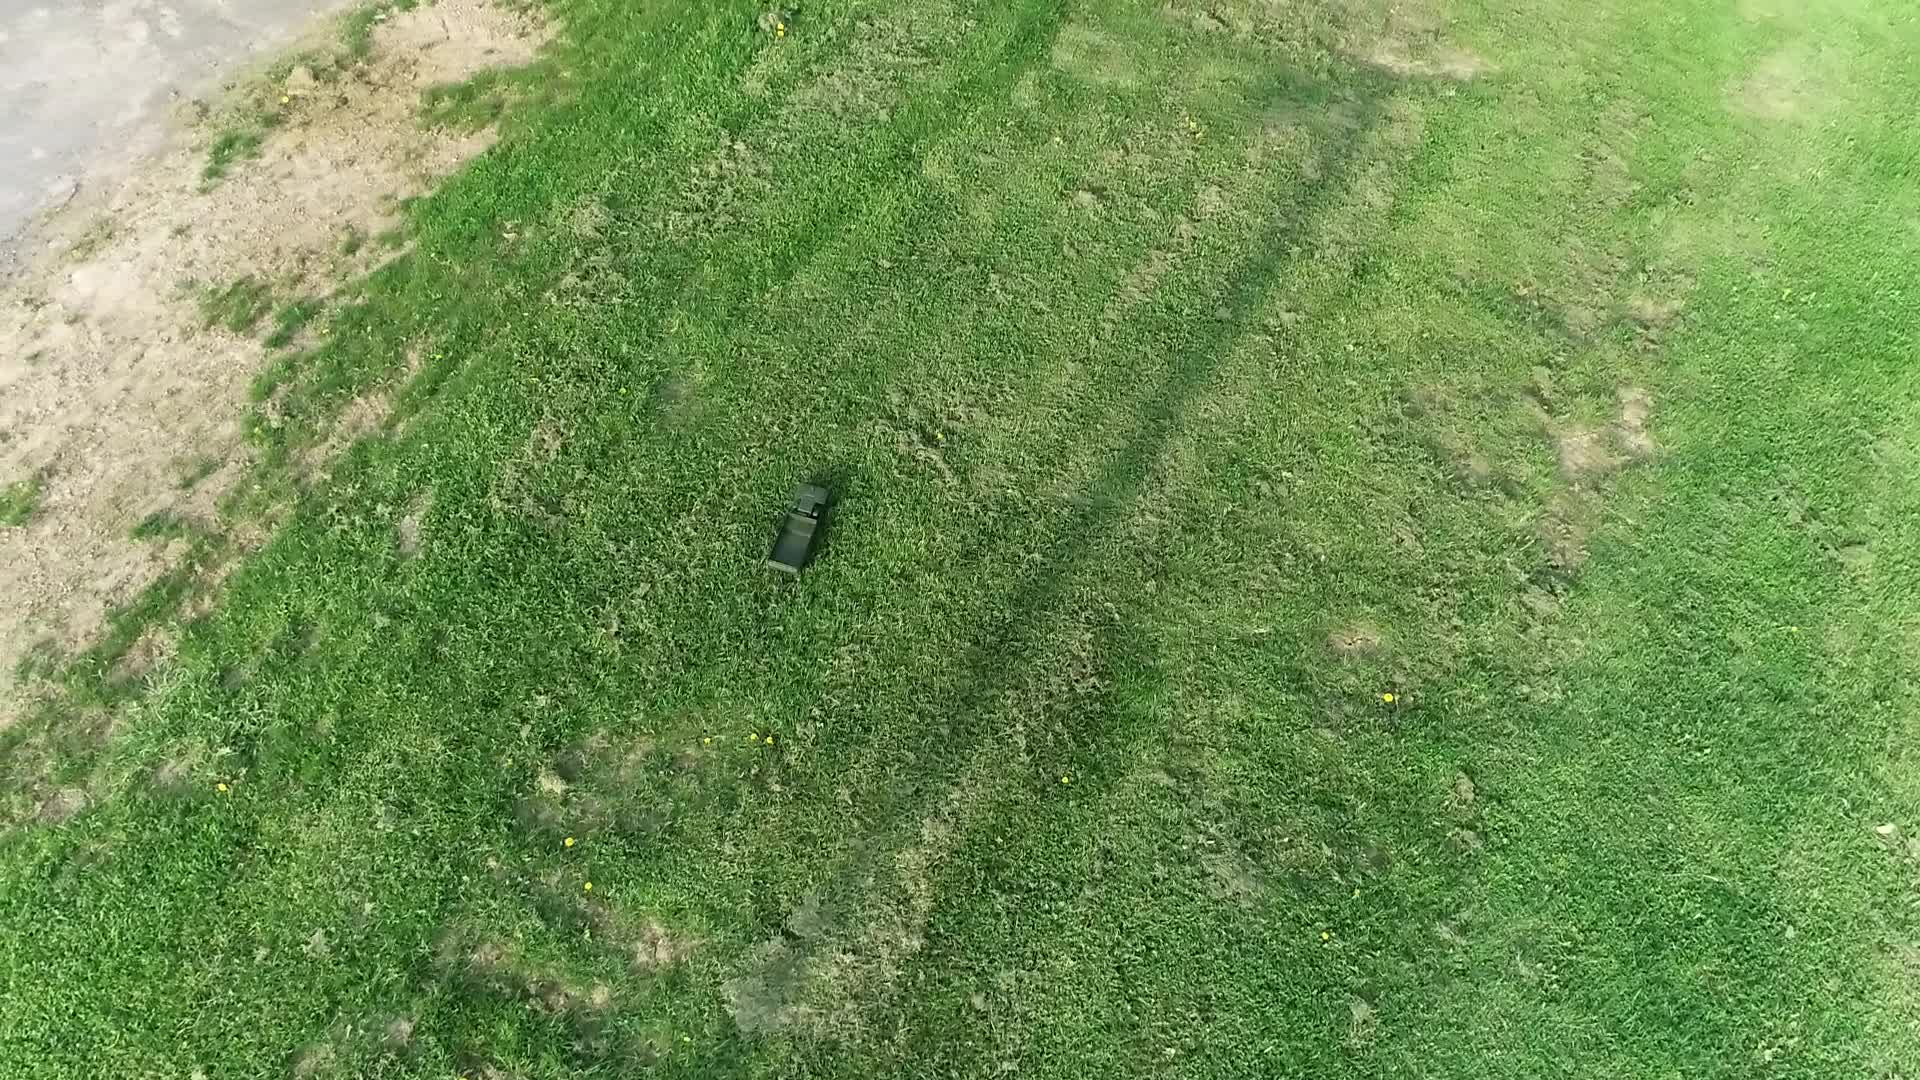transporter9: (762, 477, 833, 583)
